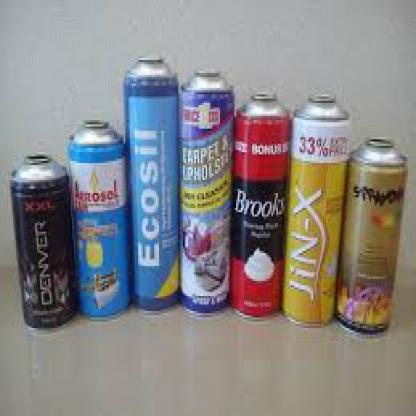Compsot: (122, 54, 177, 311), (286, 94, 347, 324), (336, 133, 404, 334), (176, 67, 230, 313), (66, 118, 132, 319), (8, 150, 77, 328), (231, 88, 283, 317)
